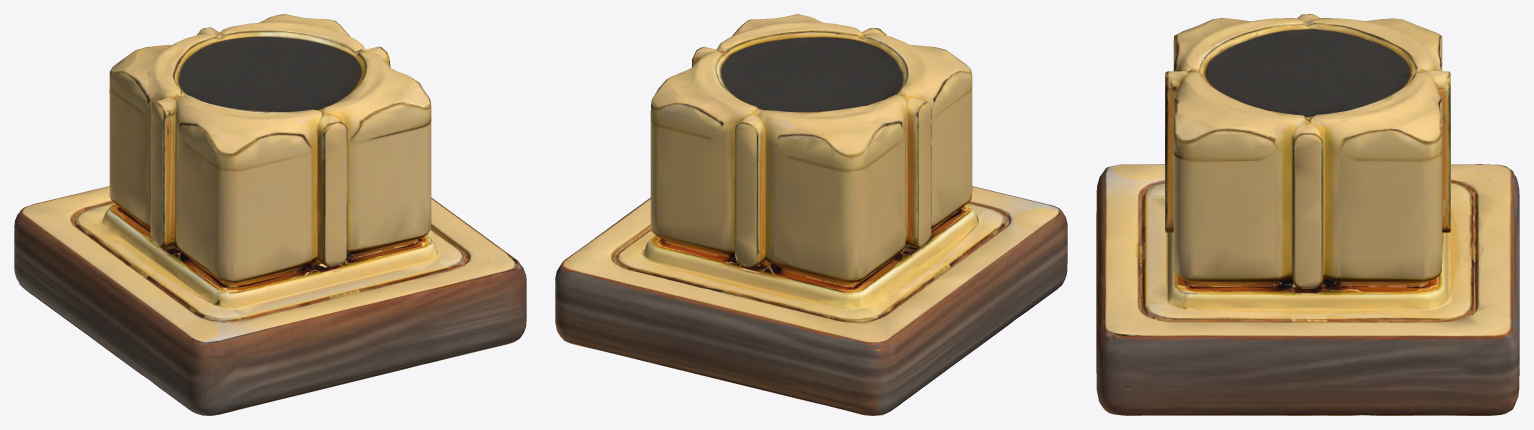
File: emitter.glb
3 views of the same model, side by side, from view 1: azimuth 30°, elevation 25°; view 2: azimuth 150°, elevation 25°; view 3: azimuth 270°, elevation 25° (orthographic). The views are drawn at different scales.
Visible parts, largest first — view 1: Meshy_AI_Golden_Elegance_1218070011_texture; view 2: Meshy_AI_Golden_Elegance_1218070011_texture; view 3: Meshy_AI_Golden_Elegance_1218070011_texture.
Part boxes in pixels (x1,y1,x2,y2): Meshy_AI_Golden_Elegance_1218070011_texture: [14, 14, 526, 415]; Meshy_AI_Golden_Elegance_1218070011_texture: [555, 14, 1067, 415]; Meshy_AI_Golden_Elegance_1218070011_texture: [1096, 14, 1519, 415].
Bounding box in the file's own units: 1.93 × 1.32 × 1.93.
1 material, 1 textured.
